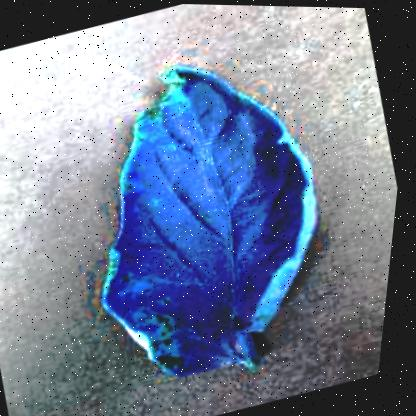BACTERIAL SPOT: (32, 22, 382, 415)
